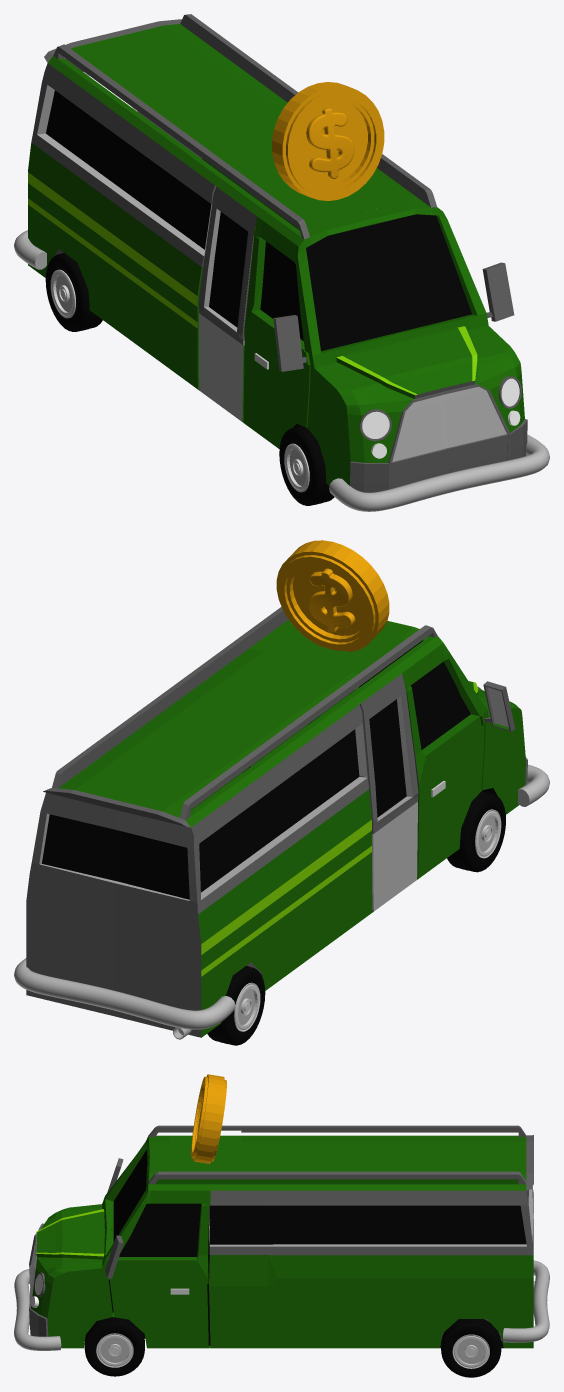
Rendered from CR-CAR-7B.fbx.
3 renders of one model, top to bottom at view 1: azimuth 30°, elevation 25°; view 2: azimuth 150°, elevation 25°; view 3: azimuth 270°, elevation 25°, orthographic. The views are drawn at different scales.
Visible parts, largest first — view 1: BODY, DOLLER, NurbsPath, WHEEL.001, WHEEL.004; view 2: BODY, DOLLER, NurbsPath, WHEEL.001, WHEEL.004; view 3: BODY, NurbsPath, WHEEL.002, WHEEL.003, DOLLER.
Part boxes in pixels (box(x1,y1,x2,y2)): BODY: box(28, 14, 527, 492); DOLLER: box(272, 82, 384, 200); NurbsPath: box(14, 230, 549, 511); WHEEL.001: box(279, 425, 334, 505); WHEEL.004: box(45, 253, 102, 331); BODY: box(26, 607, 527, 1037); DOLLER: box(276, 540, 389, 651); NurbsPath: box(14, 764, 549, 1029); WHEEL.001: box(447, 791, 505, 872); WHEEL.004: box(207, 966, 265, 1045); BODY: box(29, 1125, 533, 1348); NurbsPath: box(14, 1260, 549, 1350); WHEEL.002: box(441, 1319, 501, 1377); WHEEL.003: box(84, 1317, 144, 1376); DOLLER: box(191, 1074, 226, 1163).
Size of the model in its own units: 131 by 188 by 346.
